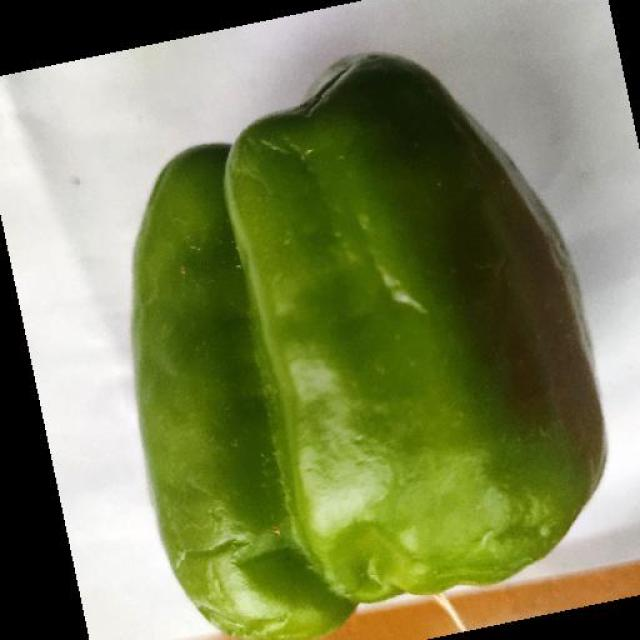Stale_Capsicum: (152, 92, 605, 596)
